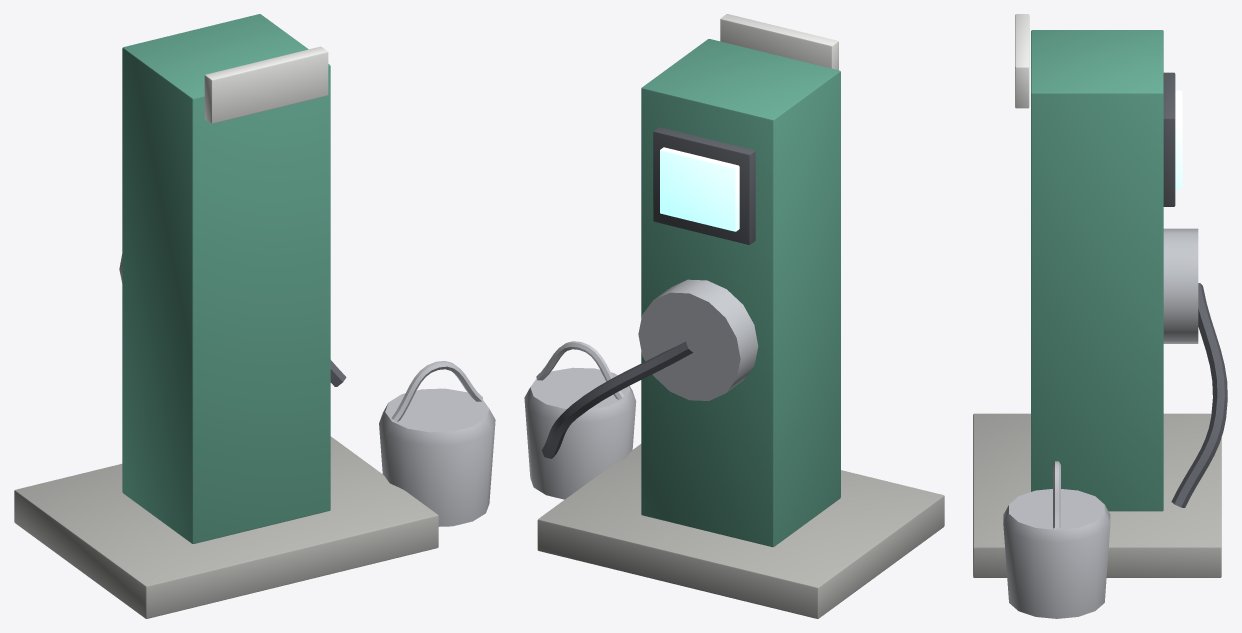
Rendered from th43_luftstation.glb.
3 renders of one model, left to right at view 1: azimuth 30°, elevation 25°; view 2: azimuth 150°, elevation 25°; view 3: azimuth 270°, elevation 25°, orthographic. The views are drawn at different scales.
Parts seen in each view (by area): view 1: Cube.001, Cube, Eimer, Cube.004, Buegel; view 2: Cube.001, Cube, Cylinder, Eimer, Cube.003, Cube.002, Cube.004, Luftschlauch, Buegel; view 3: Cube.001, Cube, Eimer, Cylinder, Luftschlauch, Cube.002, Cube.004, Cube.003, Buegel.
Part boxes in pixels (x1,y1,x2,y2): Cube.001: (122,14,330,543); Cube: (14,436,438,618); Eimer: (379,388,495,526); Cube.004: (204,46,328,123); Buegel: (391,361,482,422); Cube.001: (641,39,840,547); Cube: (537,444,944,618); Cylinder: (638,279,758,400); Eimer: (524,367,636,499); Cube.003: (660,147,739,231); Cube.002: (653,127,755,244); Cube.004: (720,14,838,70); Luftschlauch: (541,341,693,458); Buegel: (536,341,623,399); Cube.001: (1031,30,1163,511); Cube: (973,413,1221,577); Eimer: (1003,489,1110,618); Cylinder: (1163,228,1198,343); Luftschlauch: (1171,283,1227,507); Cube.002: (1163,72,1175,206); Cube.004: (1015,14,1029,108); Cube.003: (1175,90,1182,188); Buegel: (1053,461,1060,528).
Size of the model in its own units: 1.45 by 1.8 by 0.8816.
